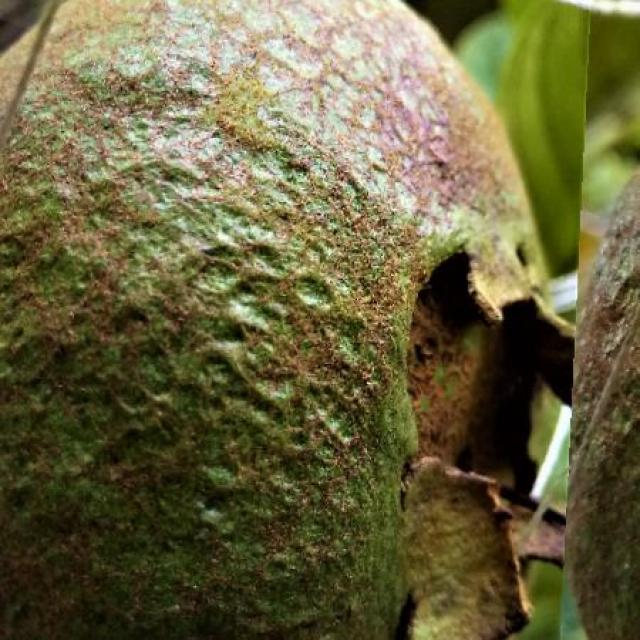Scab: (0, 0, 574, 639), (568, 178, 640, 640)
